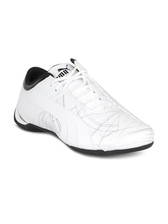shoes: (13, 56, 156, 153)
